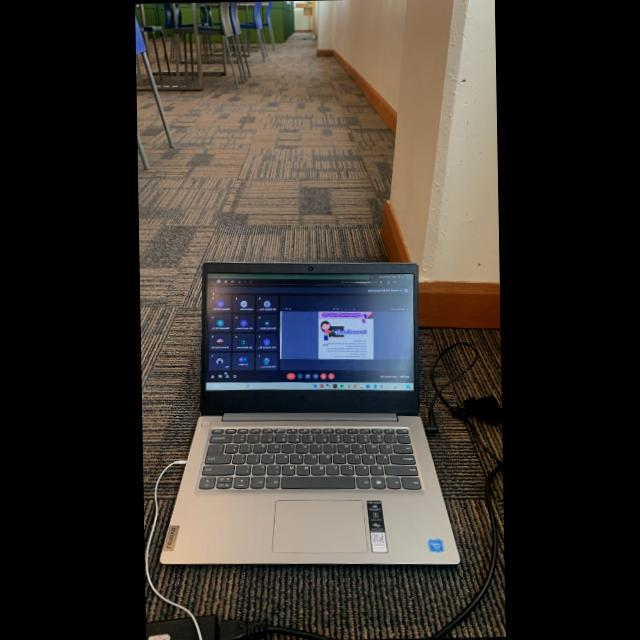laptop: (161, 262, 459, 564)
